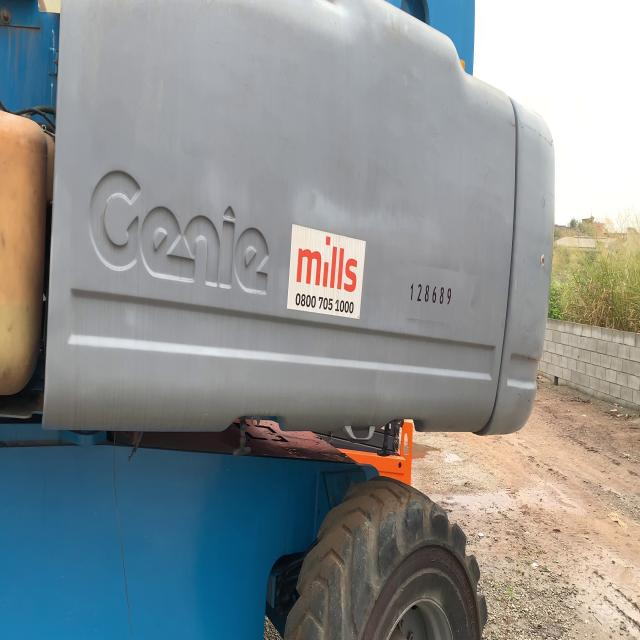Adesivos: (287, 220, 369, 324)
